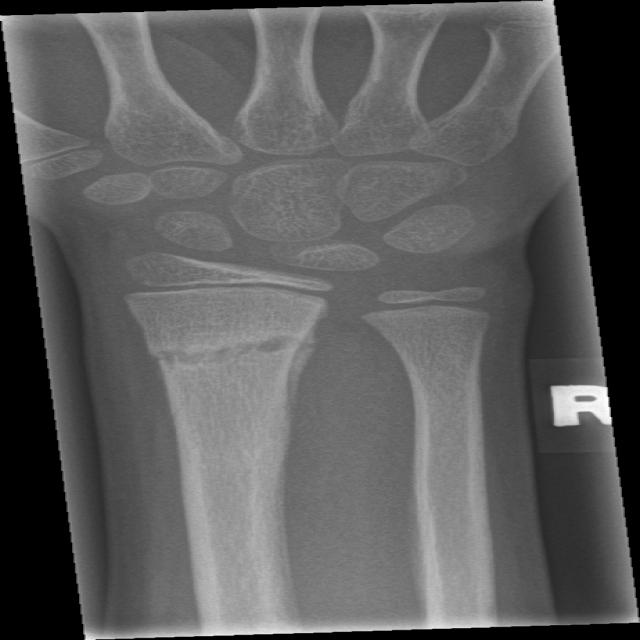radius fracture: (108, 311, 355, 467)
